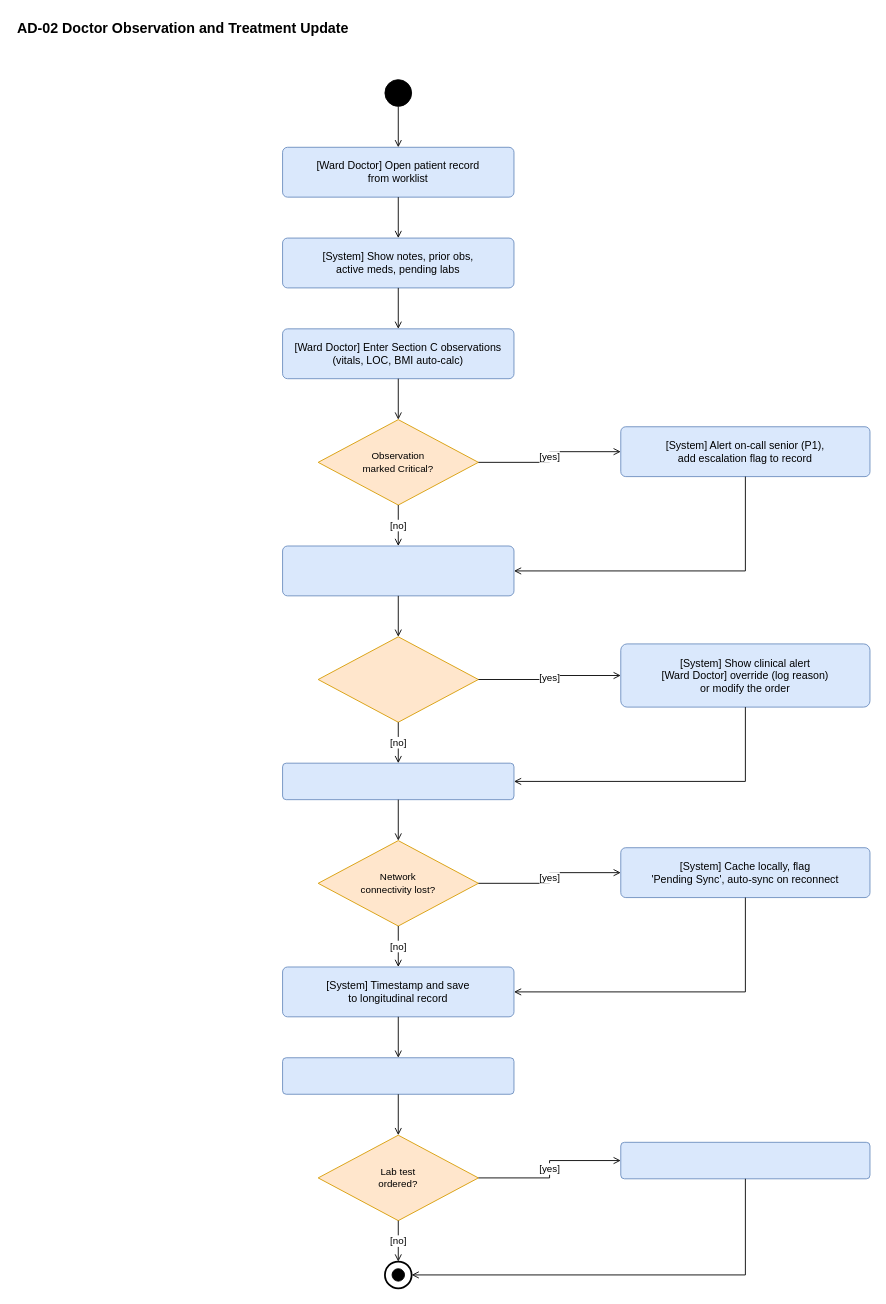
This 886x1304 diagram has some shape labels left out. The shapes that lost their labels are listed below. From the top down, each one's box as (x1, y1, x2, y2) in pixels, then its label:
(282, 545, 514, 596): [Ward Doctor] Update / add treatment orders (meds, procedures, referrals)
(317, 636, 478, 722): Medication conflict (allergy / interaction)?
(282, 762, 514, 800): [Ward Doctor] Enter follow-up instruction
(282, 1057, 514, 1094): [System] Notify duty nurse of new orders
(620, 1141, 870, 1179): [System] Create lab request (UC05)
